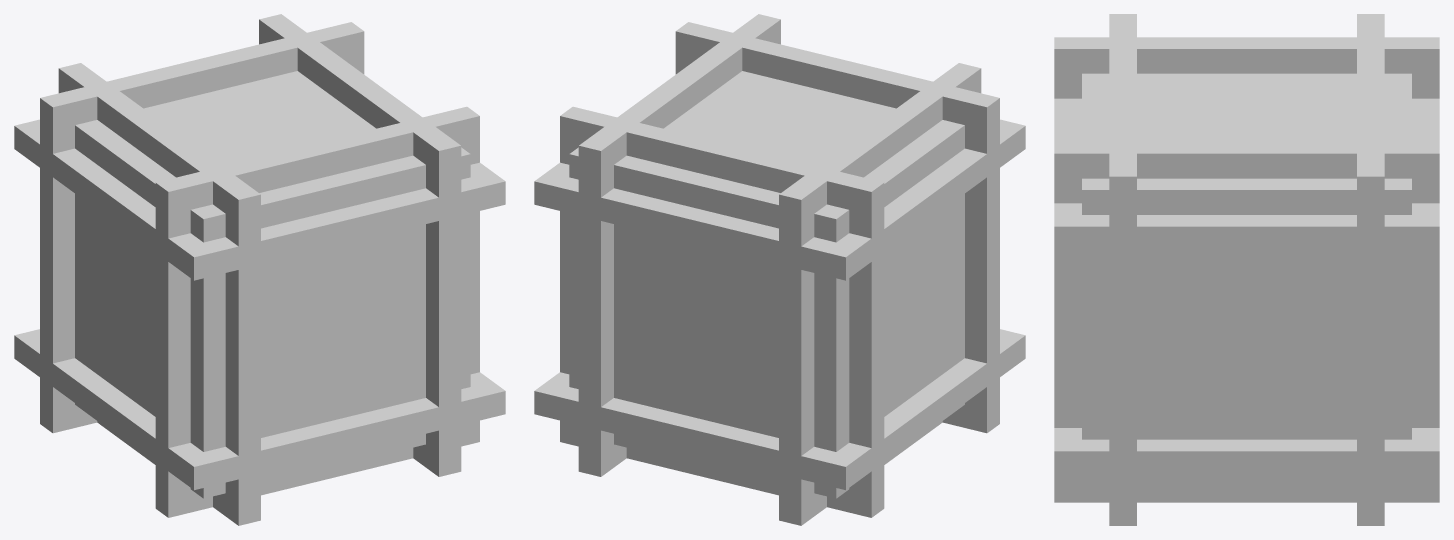
File: ml_scalar_value_1.obj
3 renders of one model, left to right at view 1: azimuth 30°, elevation 25°; view 2: azimuth 150°, elevation 25°; view 3: azimuth 270°, elevation 25°, orthographic. The views are drawn at different scales.
Parts seen in each view (by area): view 1: ml_scalar_value_1.001; view 2: ml_scalar_value_1.001; view 3: ml_scalar_value_1.001.
Part boxes in pixels (left/top/right/bottom): ml_scalar_value_1.001: left=14, top=14, right=505, bottom=525; ml_scalar_value_1.001: left=534, top=14, right=1025, bottom=525; ml_scalar_value_1.001: left=1054, top=14, right=1439, bottom=525.
Bounding box in the file's own units: 0.7 × 0.7 × 0.7.
